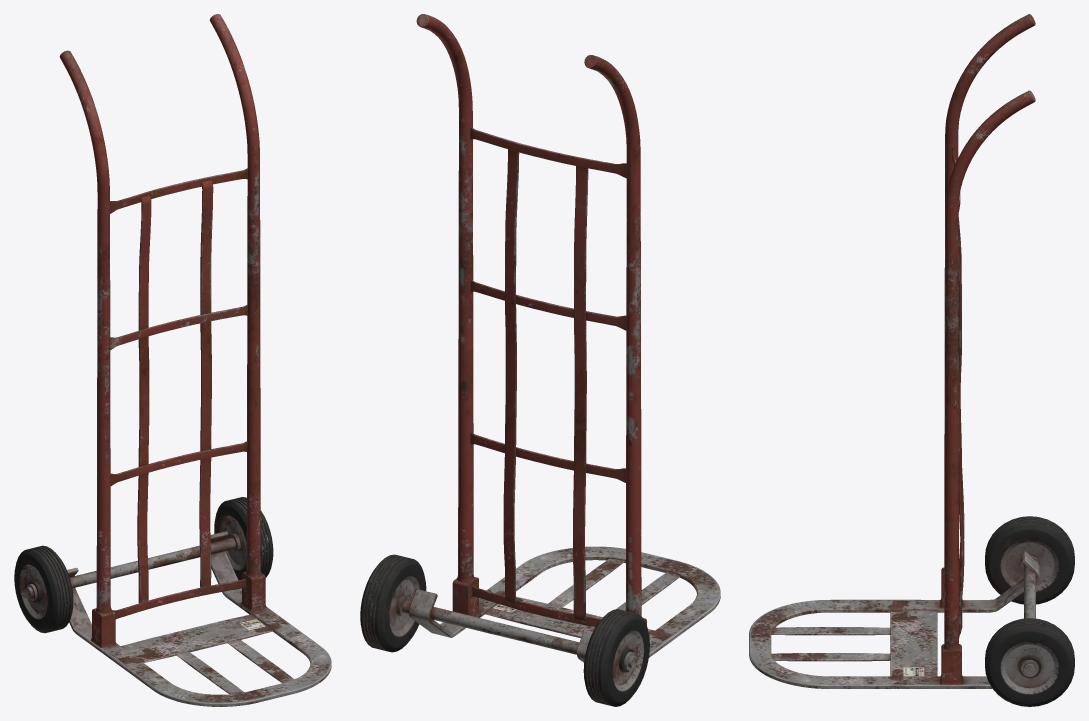
The model's file is hand_truck.gltf.
3 renders of one model, left to right at view 1: azimuth 30°, elevation 25°; view 2: azimuth 150°, elevation 25°; view 3: azimuth 270°, elevation 25°, orthographic. The views are drawn at different scales.
Visible parts, largest first — view 1: hand_truck; view 2: hand_truck; view 3: hand_truck.
Boxes of the visible parts, box(x1,y1,x2,y2) form: hand_truck: box(14, 14, 331, 706); hand_truck: box(360, 14, 720, 706); hand_truck: box(749, 14, 1074, 706).
Bounding box in the file's own units: 0.5933 × 1.4 × 0.6925.
1 material, 1 textured.
